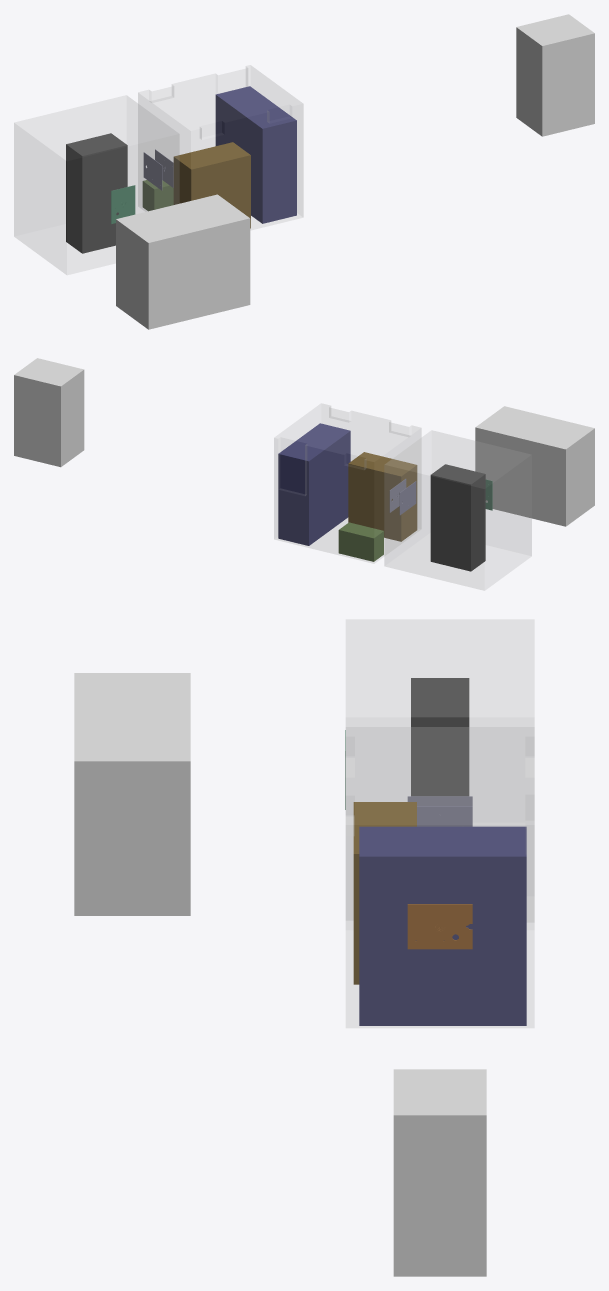
The model's file is assembly.glb.
The picture shows the model from 3 angles, top to bottom: view 1: azimuth 30°, elevation 25°; view 2: azimuth 150°, elevation 25°; view 3: azimuth 270°, elevation 25°; orthographic projection. The views are drawn at different scales.
Parts seen in each view (by area): view 1: container_shell (×2), EXT-DC-002, EXT-BESS-002, GRD-SWG-001, CMP-RACK-001, GRD-XFM-001, GRD-PCS-001, ARC-PLT-CD, ARC-PLT-CG; view 2: container_shell (×2), EXT-DC-002, GRD-SWG-001, EXT-BESS-002, CMP-RACK-001, GRD-XFM-001, GRD-PCS-001, ARC-PLT-CG (×2); view 3: container_shell (×2), GRD-SWG-001, EXT-DC-002, EXT-BESS-002, CMP-RACK-001, ARC-PLT-BG-DC, GRD-XFM-001, ARC-PLT-CG.
Boxes of the visible parts, x1,y1,x2,y2 form: container_shell (×2): [14, 65, 303, 274]; EXT-DC-002: [116, 194, 250, 329]; EXT-BESS-002: [516, 14, 594, 136]; GRD-SWG-001: [215, 86, 296, 223]; CMP-RACK-001: [66, 133, 127, 253]; GRD-XFM-001: [173, 142, 250, 228]; GRD-PCS-001: [142, 180, 173, 211]; ARC-PLT-CD: [111, 185, 135, 223]; ARC-PLT-CG: [143, 152, 162, 190]; container_shell (×2): [274, 403, 531, 590]; EXT-DC-002: [475, 406, 594, 526]; GRD-SWG-001: [278, 423, 350, 545]; EXT-BESS-002: [14, 358, 84, 467]; CMP-RACK-001: [430, 464, 485, 571]; GRD-XFM-001: [348, 452, 417, 541]; GRD-PCS-001: [338, 522, 383, 561]; ARC-PLT-CG (×2): [389, 479, 416, 515]; container_shell (×2): [345, 619, 534, 1027]; GRD-SWG-001: [359, 826, 526, 1025]; EXT-DC-002: [74, 673, 190, 915]; EXT-BESS-002: [393, 1069, 486, 1276]; CMP-RACK-001: [411, 678, 469, 796]; ARC-PLT-BG-DC: [407, 904, 472, 949]; GRD-XFM-001: [353, 802, 416, 984]; ARC-PLT-CG: [417, 806, 472, 826].
Bounding box in the file's own units: 14382 × 2896 × 5938.
